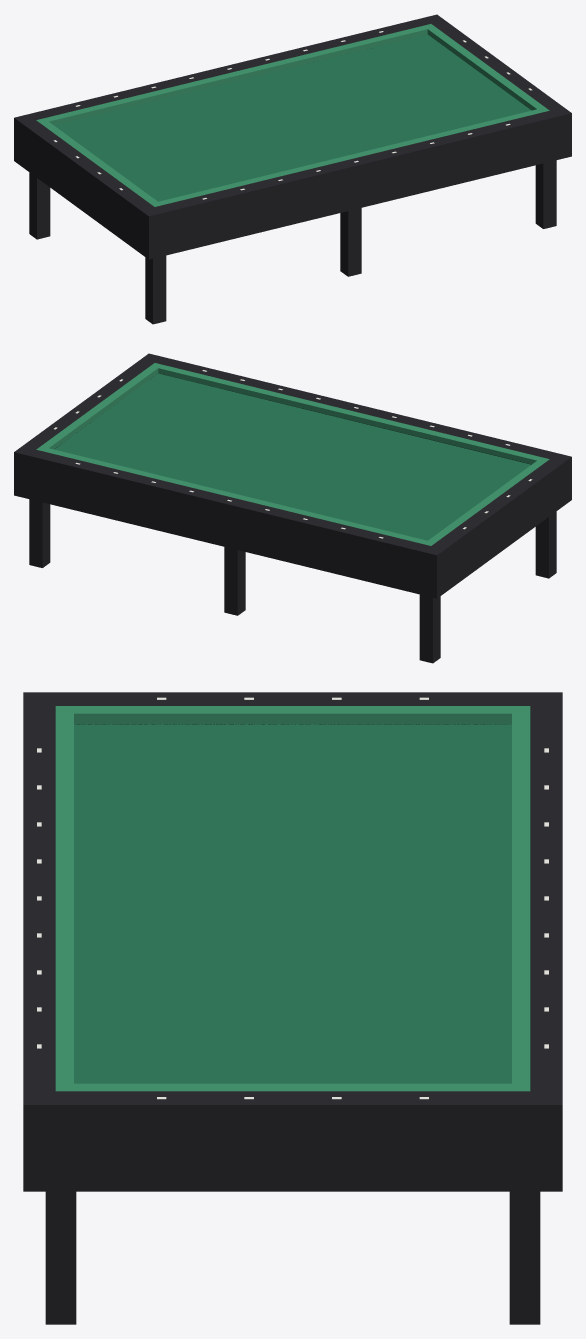
Rendered from BilliardTable.fbx.
3 views of the same model, one above another, from view 1: azimuth 30°, elevation 25°; view 2: azimuth 150°, elevation 25°; view 3: azimuth 270°, elevation 25° (orthographic). The views are drawn at different scales.
Parts seen in each view (by area): view 1: Cloth_Main, Apron_S, Frame_S, Apron_W, Slate, Cushion_N, Frame_N, Frame_W, Cushion_S, Frame_E, Cushion_E, Leg_-1_-1 (+4 smaller); view 2: Cloth_Main, Apron_N, Frame_N, Apron_W, Slate, Cushion_S, Frame_S, Frame_W, Cushion_N, Frame_E, Cushion_E, Leg_-1_1 (+4 smaller); view 3: Cloth_Main, Apron_E, Frame_S, Frame_N, Frame_E, Cushion_W, Slate, Cushion_N, Cushion_S, Frame_W, Leg_1_-1, Leg_1_1 (+1 smaller).
Part boxes in pixels (<box>): Cloth_Main: <box>54,34,531,201</box>; Apron_S: <box>147,126,571,259</box>; Frame_S: <box>140,107,571,222</box>; Apron_W: <box>14,130,152,259</box>; Slate: <box>14,119,571,228</box>; Cushion_N: <box>36,24,435,125</box>; Frame_N: <box>14,14,444,129</box>; Frame_W: <box>22,120,153,215</box>; Cushion_S: <box>150,107,549,206</box>; Frame_E: <box>431,20,563,110</box>; Cushion_E: <box>427,27,544,110</box>; Leg_-1_-1: <box>145,255,166,324</box>; Cloth_Main: <box>54,373,531,540</box>; Apron_N: <box>14,465,439,598</box>; Frame_N: <box>14,446,445,561</box>; Apron_W: <box>433,469,571,596</box>; Slate: <box>14,458,571,567</box>; Cushion_S: <box>150,363,549,464</box>; Frame_S: <box>141,353,571,468</box>; Frame_W: <box>432,459,563,555</box>; Cushion_N: <box>36,446,435,545</box>; Frame_E: <box>22,359,154,449</box>; Cushion_E: <box>41,366,158,449</box>; Leg_-1_1: <box>419,594,440,663</box>; Cloth_Main: <box>74,724,511,1083</box>; Apron_E: <box>23,1130,562,1191</box>; Frame_S: <box>23,692,55,1117</box>; Frame_N: <box>530,692,562,1117</box>; Frame_E: <box>55,1091,530,1117</box>; Cushion_W: <box>74,706,511,724</box>; Slate: <box>23,1116,562,1130</box>; Cushion_N: <box>512,706,530,1091</box>; Cushion_S: <box>55,706,73,1091</box>; Frame_W: <box>55,692,530,705</box>; Leg_1_-1: <box>45,1191,76,1324</box>; Leg_1_1: <box>509,1191,540,1324</box>.
Size of the model in its own units: 3.17 by 0.8213 by 1.75.
